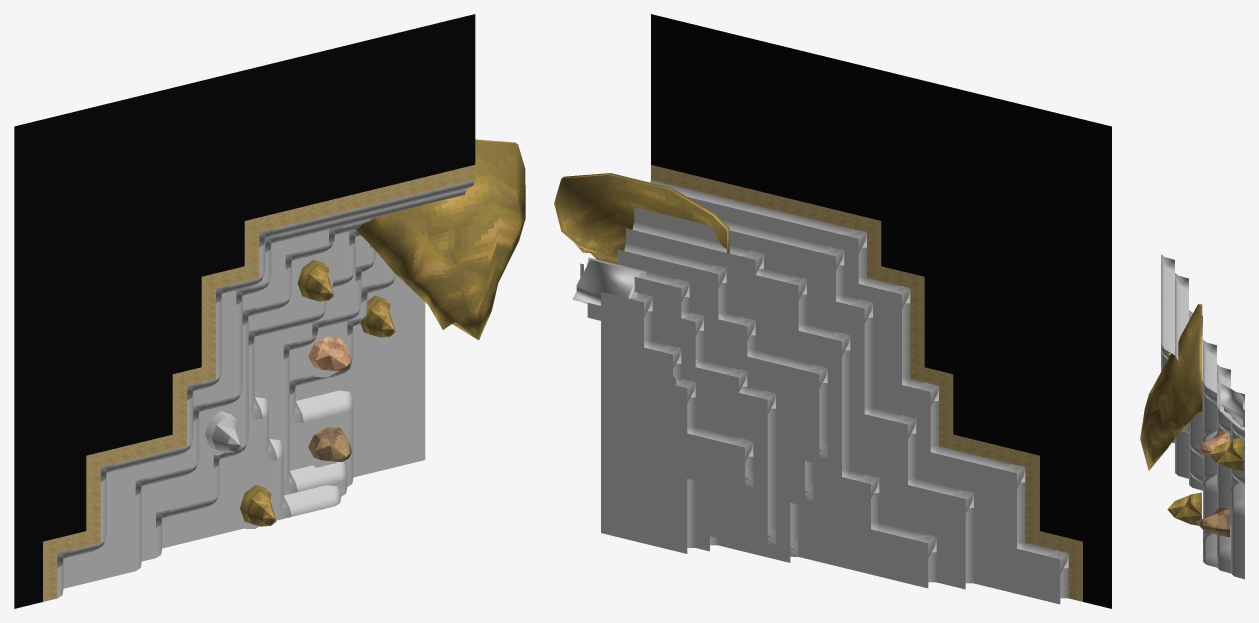
Rendered from Navel-Cave-West-1_00_00.obj.
3 views of the same model, side by side, from view 1: azimuth 30°, elevation 25°; view 2: azimuth 150°, elevation 25°; view 3: azimuth 270°, elevation 25° (orthographic). The views are drawn at different scales.
Parts seen in each view (by area): view 1: map; view 2: map; view 3: map.
Boxes of the visible parts, left/top/right/bottom form: map: left=14, top=14, right=525, bottom=608; map: left=554, top=14, right=1111, bottom=608; map: left=1140, top=254, right=1244, bottom=579.
Bounding box in the file's own units: 37 × 32.11 × 7.48.
